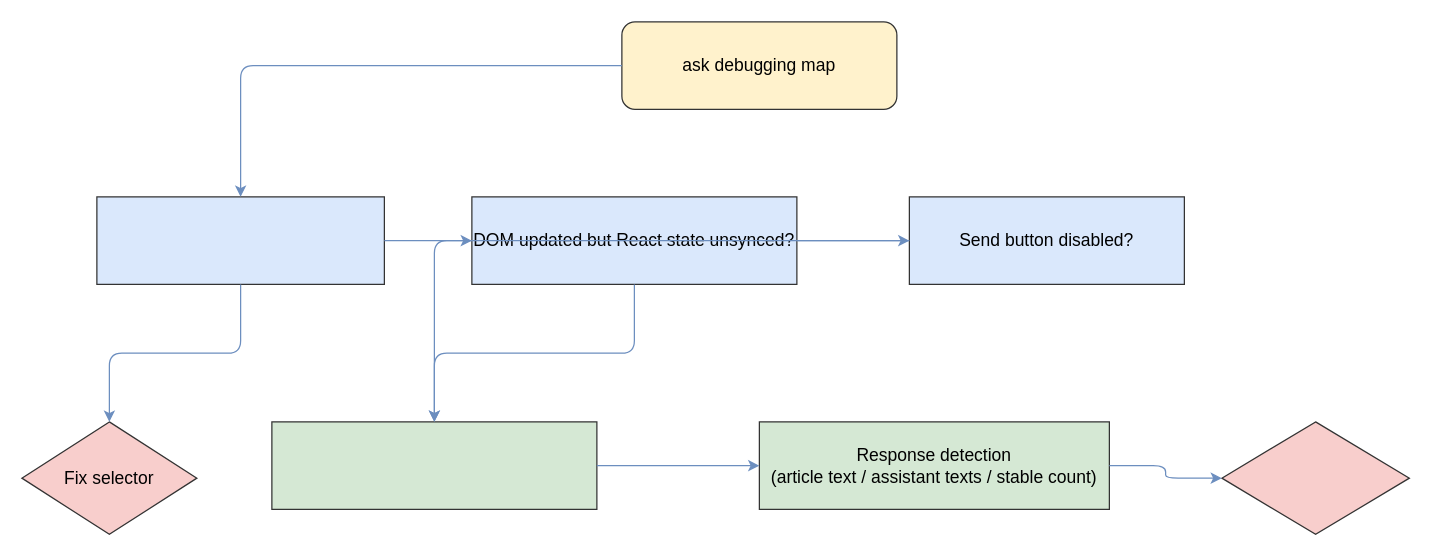
The diagram is 1431 pixels wide and 556 high, and some of its shapes have lost their labels. The centre of each missing label's shape, as x and y in pixels:
"Improve extraction" goes at (x=1315, y=477).
"Selector found?" goes at (x=240, y=240).
"Submit fallback path (button / enter / enter+button)" goes at (x=434, y=465).
